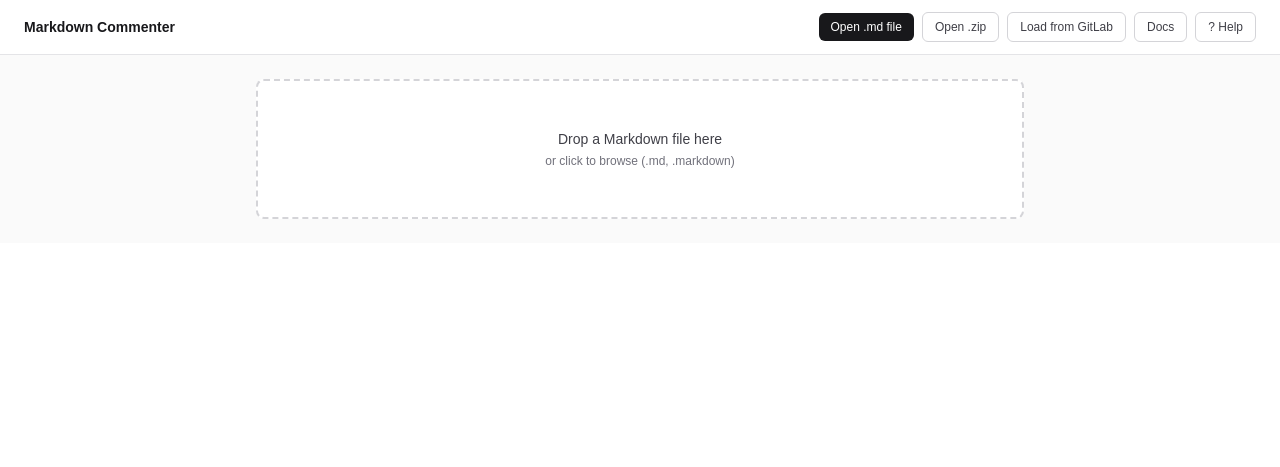
Test: Home page — Docs nav › selecting Architecture fetches and renders its inline mermaid
The image size is (1280, 467).
What coordinates should you click on to do the following:
click the button "Docs"
I would click on:
 (1161, 27)
Its box is x1=1134 y1=12 x2=1187 y2=42.
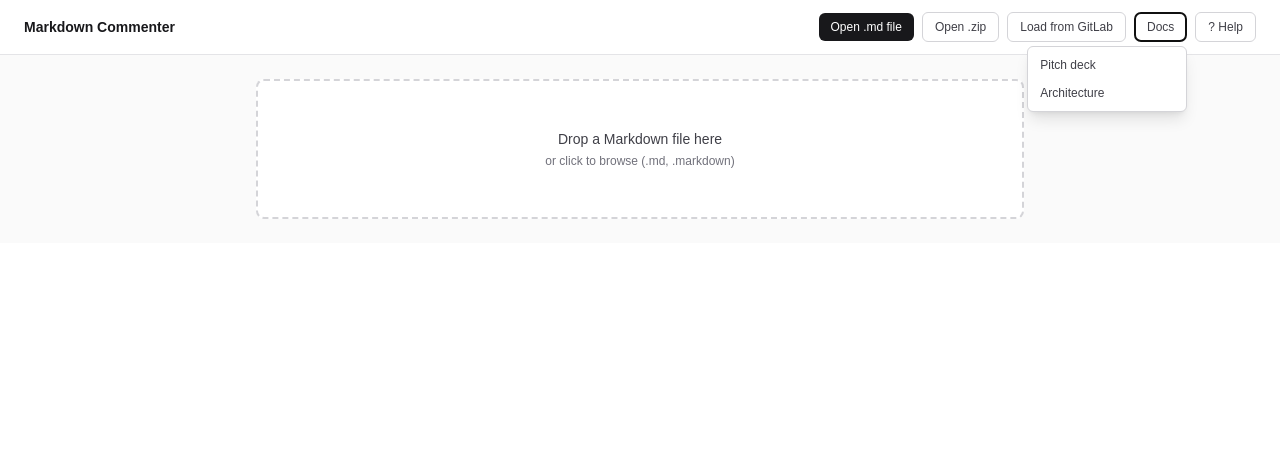
What coordinates should you click on to do the following:
click the menu item "Architecture"
I would click on:
 (1107, 93)
Its box is x1=1028 y1=79 x2=1186 y2=107.
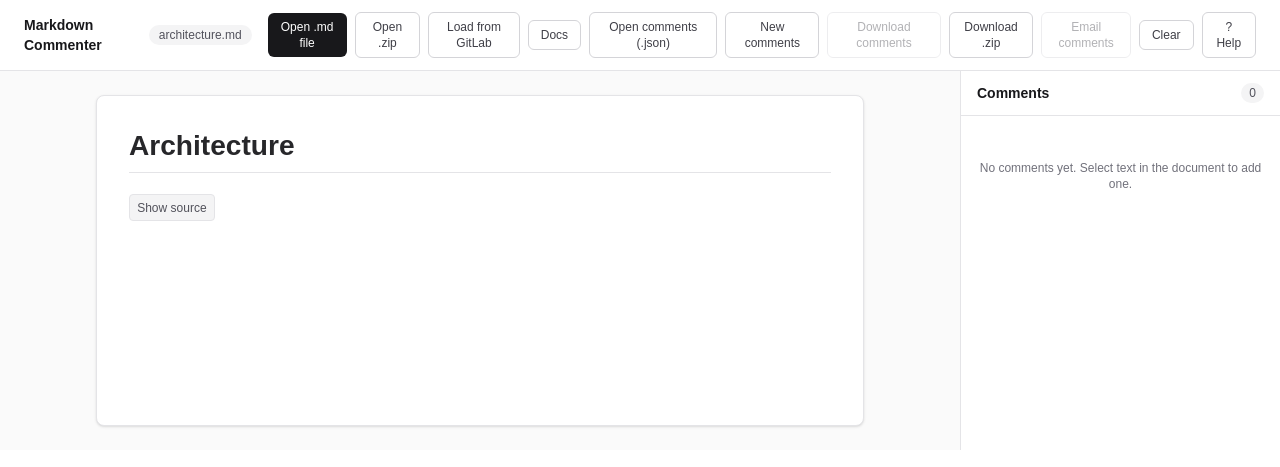
Expected: the text "architecture.md" is shown, x1=149 y1=25 x2=252 y2=45
